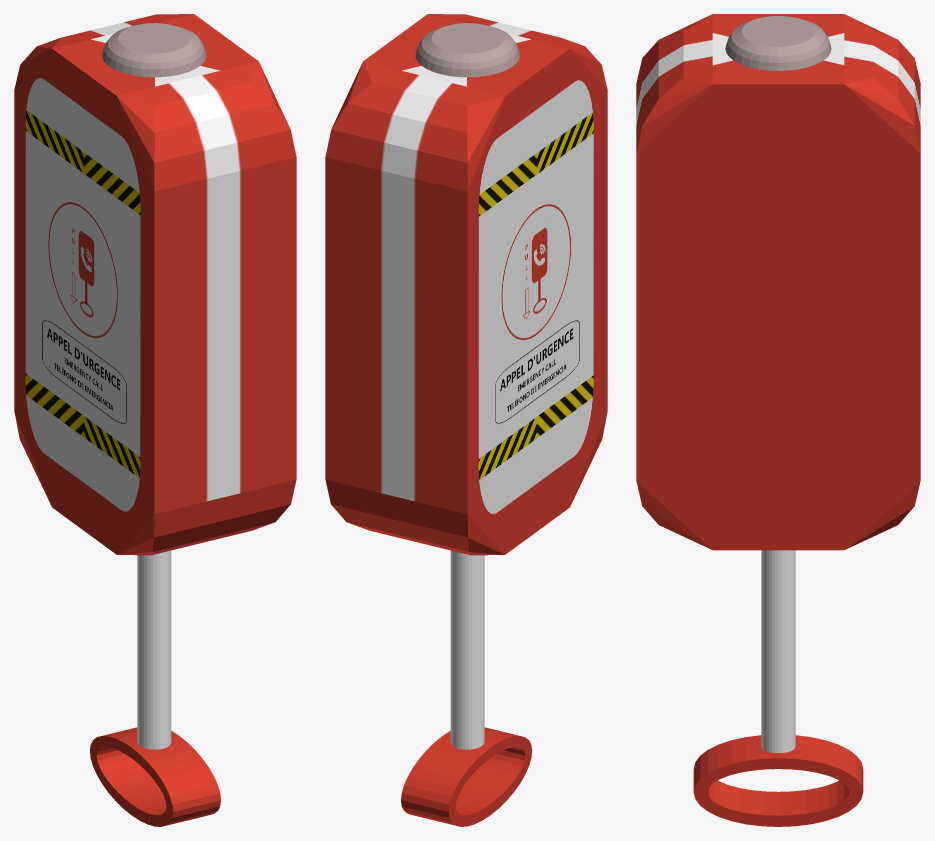
File: EmergencyBox.fbx
3 views of the same model, side by side, from view 1: azimuth 30°, elevation 25°; view 2: azimuth 150°, elevation 25°; view 3: azimuth 270°, elevation 25° (orthographic).
Visible parts, largest first — view 1: EmergencyBox, trigger, Cylinder; view 2: EmergencyBox, trigger, Cylinder; view 3: EmergencyBox, trigger, Cylinder.
Boxes of the visible parts, x1,y1,x2,y2 form: EmergencyBox: [14, 14, 296, 555]; trigger: [90, 550, 220, 826]; Cylinder: [102, 23, 206, 77]; EmergencyBox: [325, 14, 607, 555]; trigger: [401, 550, 532, 826]; Cylinder: [415, 23, 519, 77]; EmergencyBox: [636, 14, 920, 550]; trigger: [693, 550, 863, 826]; Cylinder: [725, 16, 831, 70].
Bounding box in the file's own units: 100 × 521 × 171.
Materials: 1 (1 with a texture image).
